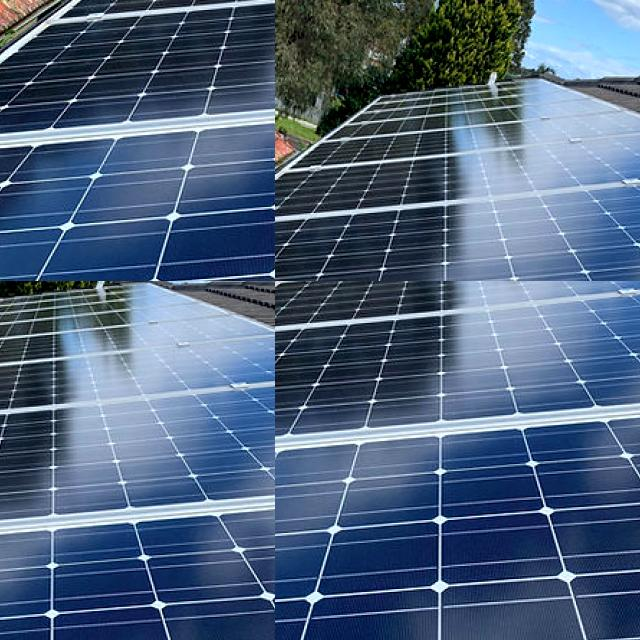crack: (299, 0, 640, 281), (0, 281, 275, 535), (0, 408, 275, 640), (0, 98, 275, 281), (324, 485, 640, 640), (275, 204, 640, 281), (275, 458, 442, 619), (300, 340, 492, 462), (444, 320, 604, 408), (560, 491, 640, 640), (394, 281, 540, 336)
